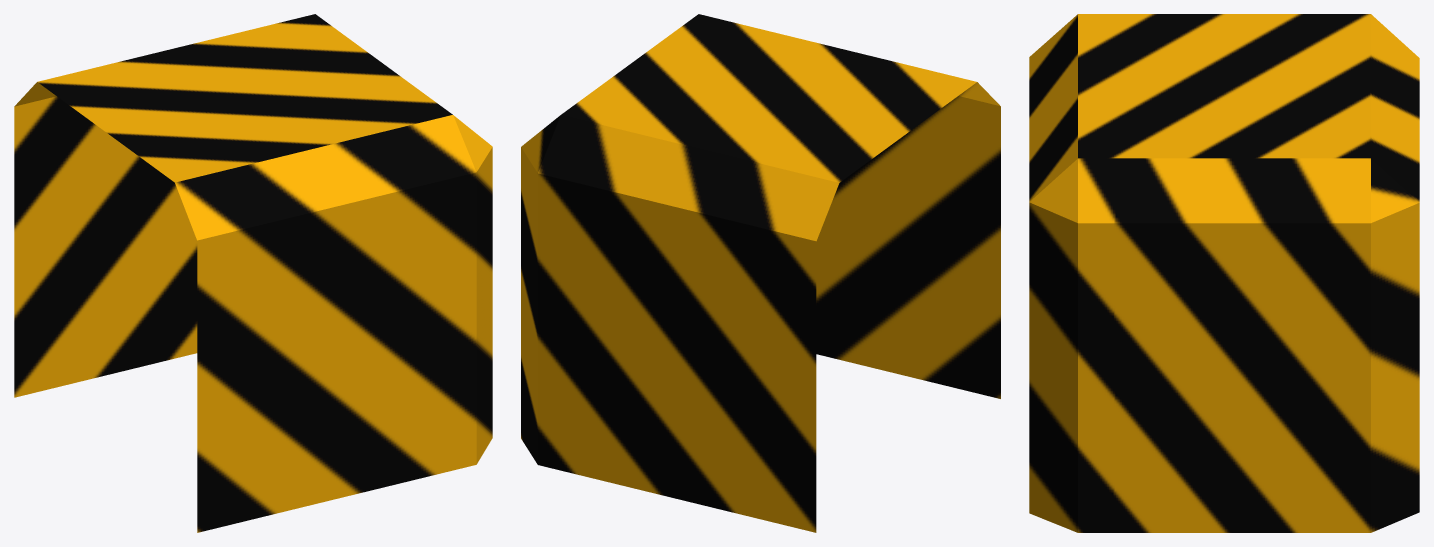
The model's file is Bevel_12.fbx.
3 views of the same model, side by side, from view 1: azimuth 30°, elevation 25°; view 2: azimuth 150°, elevation 25°; view 3: azimuth 270°, elevation 25° (orthographic). The views are drawn at different scales.
Visible parts, largest first — view 1: Bevel_12; view 2: Bevel_12; view 3: Bevel_12.
Boxes of the visible parts, x1,y1,x2,y2 form: Bevel_12: (14,14,492,532); Bevel_12: (521,14,1000,532); Bevel_12: (1029,14,1419,532).
Size of the model in its own units: 10000 by 10019 by 10019.
